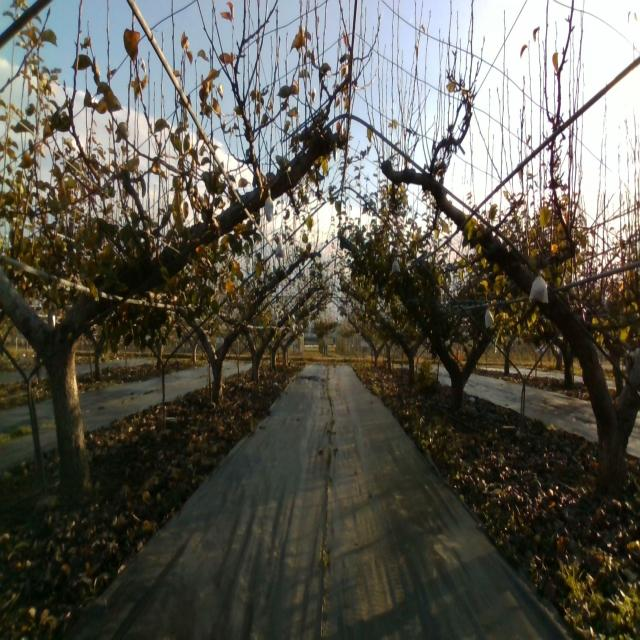pearbags: (528, 268, 550, 304), (265, 189, 274, 223), (275, 239, 286, 259)
